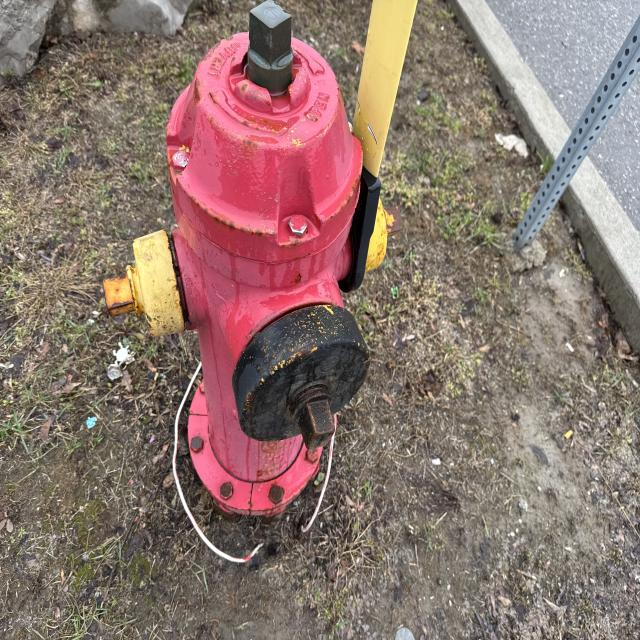Fire hydrant: (101, 0, 406, 522)
